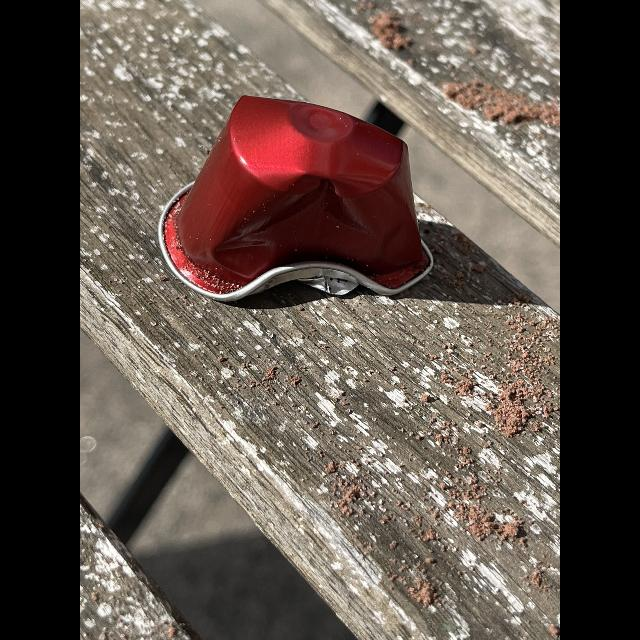damaged_capsule: (130, 77, 460, 325)
